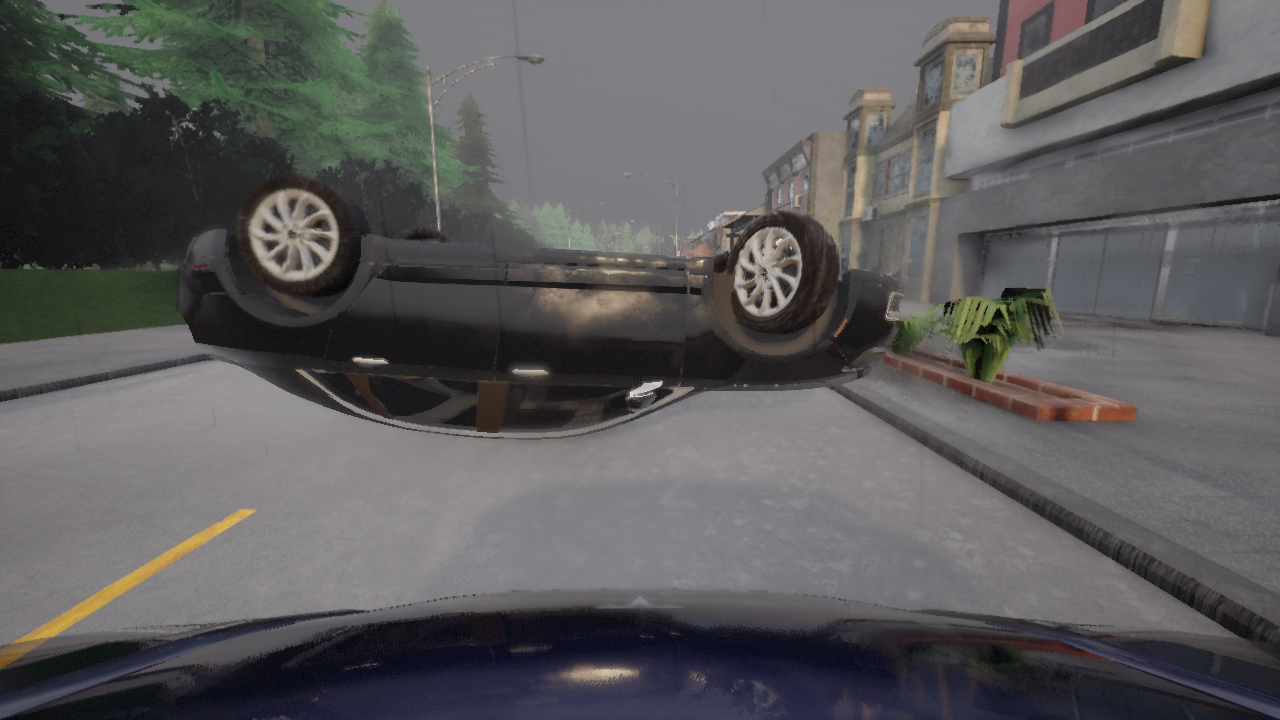cyclist: (174, 174, 904, 439), (0, 588, 1279, 719)
